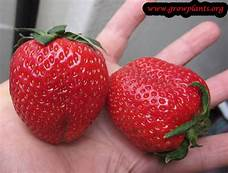Fresa: (7, 29, 112, 150), (104, 54, 215, 160)
